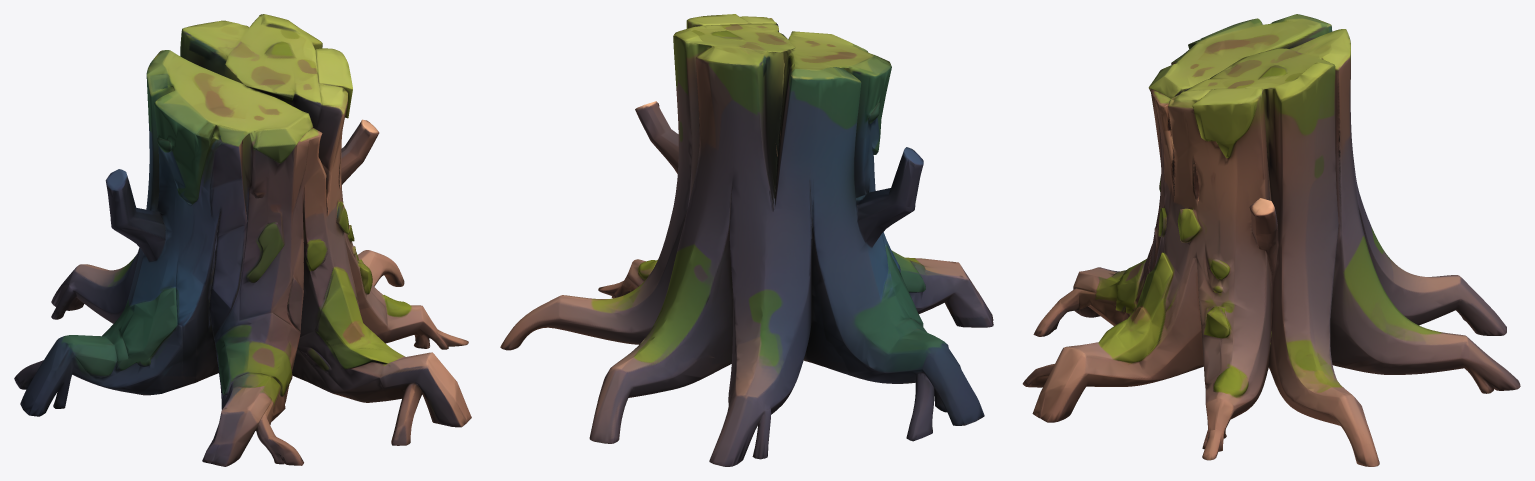
Rendered from stump.glb.
The picture shows the model from 3 angles, left to right: view 1: azimuth 30°, elevation 25°; view 2: azimuth 150°, elevation 25°; view 3: azimuth 270°, elevation 25°; orthographic projection. The views are drawn at different scales.
Visible parts, largest first — view 1: node_0; view 2: node_0; view 3: node_0.
Boxes of the visible parts, x1,y1,x2,y2 form: node_0: [14, 14, 471, 466]; node_0: [500, 14, 993, 466]; node_0: [1022, 14, 1520, 466].
Bounding box in the file's own units: 0.9176 × 0.6665 × 0.9272.
Materials: 1 (1 with a texture image).
